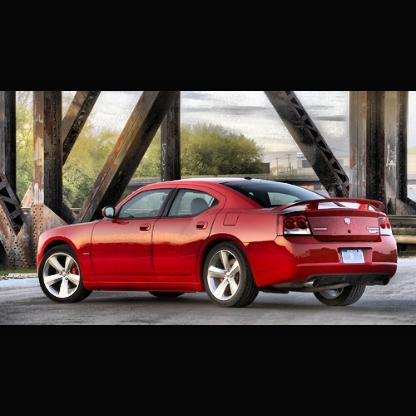Dodge Charger SRT-8 2009: (35, 176, 401, 310)
